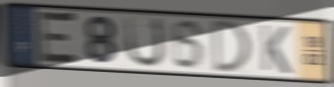6: (169, 19, 207, 70)
8: (84, 15, 119, 66)
D: (210, 17, 252, 75)
E: (37, 8, 81, 68)
K: (258, 23, 293, 76)
U: (124, 15, 167, 70)
